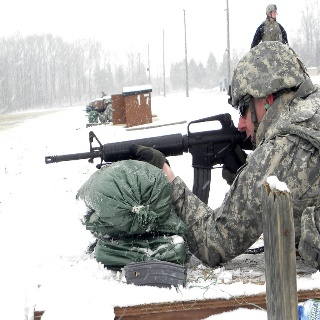rifle: (42, 113, 254, 205)
